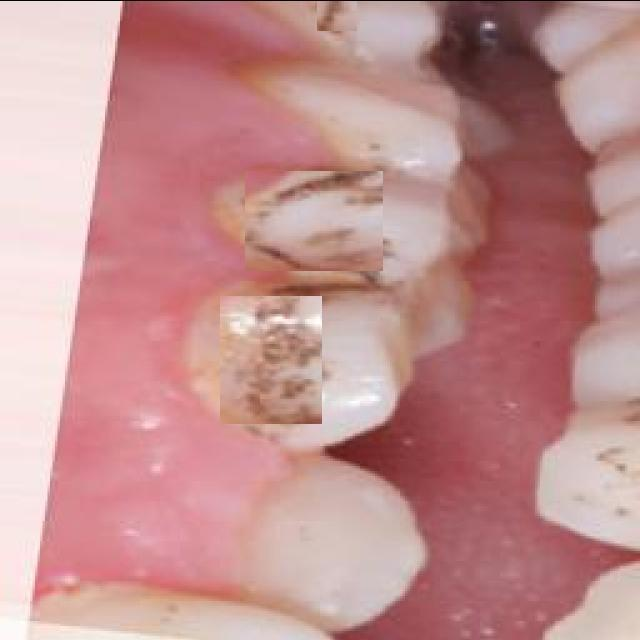caries: (245, 170, 383, 270), (220, 295, 322, 423), (318, 0, 358, 30)
